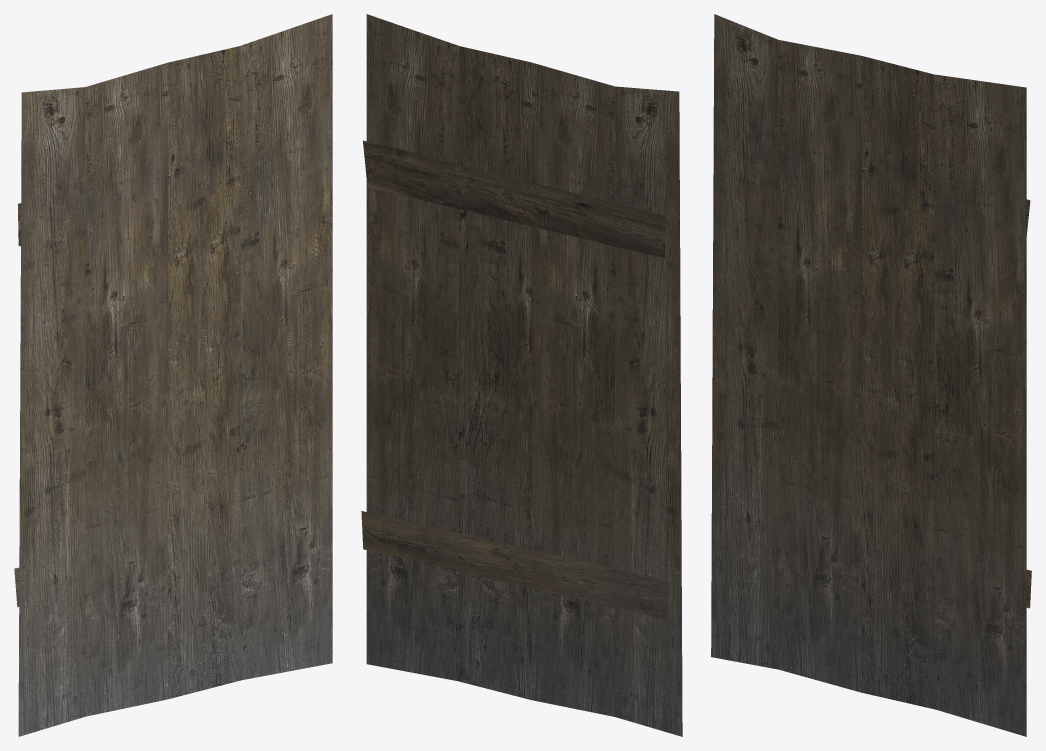
The model's file is House_02_Doors2_LOD2.fbx.
3 views of the same model, side by side, from view 1: azimuth 30°, elevation 25°; view 2: azimuth 150°, elevation 25°; view 3: azimuth 330°, elevation 25° (orthographic).
Parts seen in each view (by area): view 1: polySurface1106; view 2: polySurface1106; view 3: polySurface1106.
Part boxes in pixels (bbox=[...]): polySurface1106: bbox=[14, 14, 332, 736]; polySurface1106: bbox=[361, 14, 682, 736]; polySurface1106: bbox=[711, 14, 1031, 736].
Size of the model in its own units: 0.9132 by 1.8 by 0.0434.
